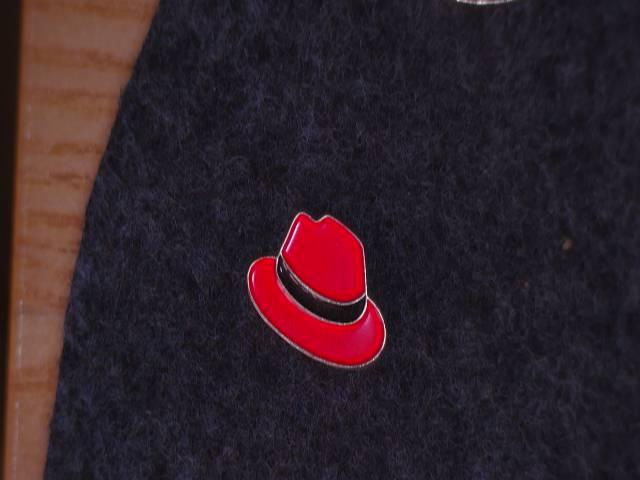Red-Hat: (236, 186, 400, 385)
